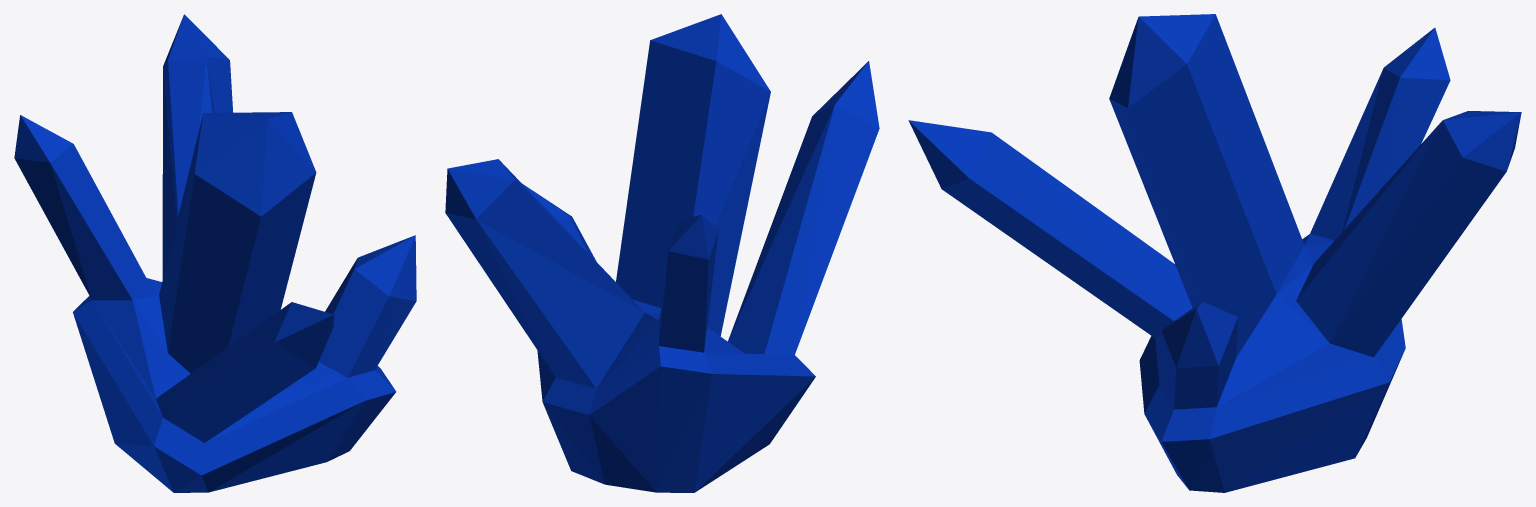
Rendered from Crystal.dae.
3 renders of one model, left to right at view 1: azimuth 30°, elevation 25°; view 2: azimuth 150°, elevation 25°; view 3: azimuth 270°, elevation 25°, orthographic. The views are drawn at different scales.
Parts seen in each view (by area): view 1: Cube_001; view 2: Cube_001; view 3: Cube_001.
Boxes of the visible parts, x1,y1,x2,y2 form: Cube_001: [14, 14, 416, 492]; Cube_001: [445, 14, 879, 492]; Cube_001: [908, 14, 1521, 492].
Size of the model in its own units: 7.54 by 12.21 by 9.16.
